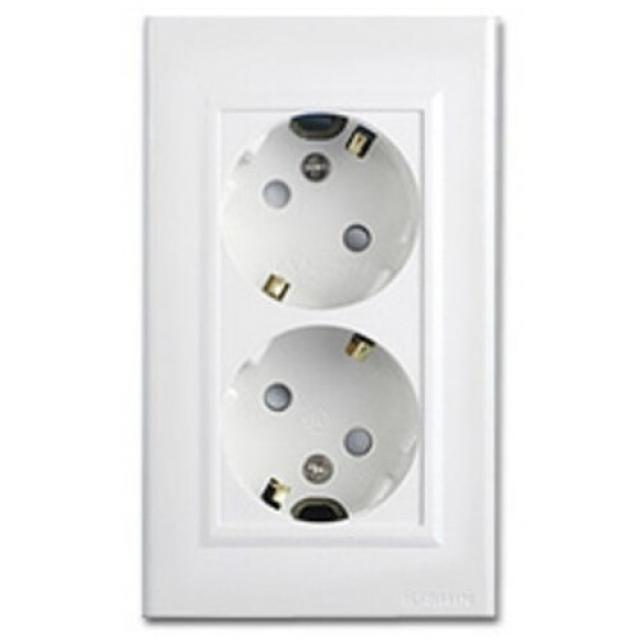typeb: (88, 6, 566, 640)
